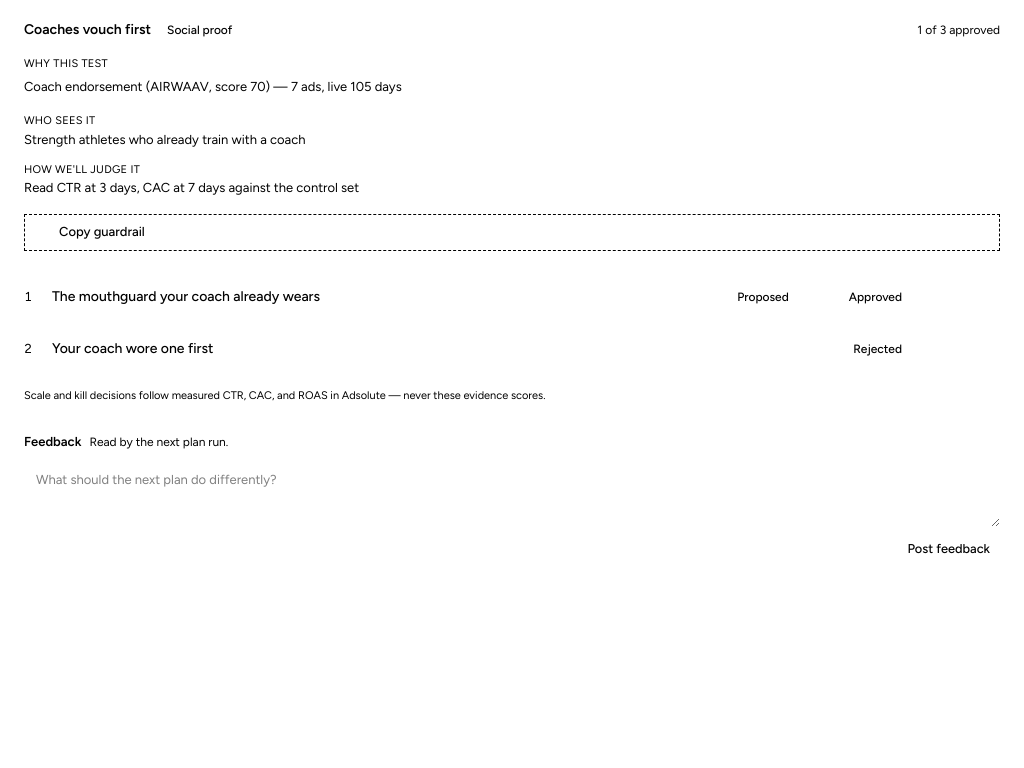
Test: TestPlanConcept › collapses the guardrail behind its toggle, closed to start
Expected: the text "Copy guardrail" is shown, [59,224,145,240]
Expected: the text "Never promise a performance gain in numbers" is not shown
Click the button "Copy guardrail". click: (102, 232)
box: [25,216,999,250]
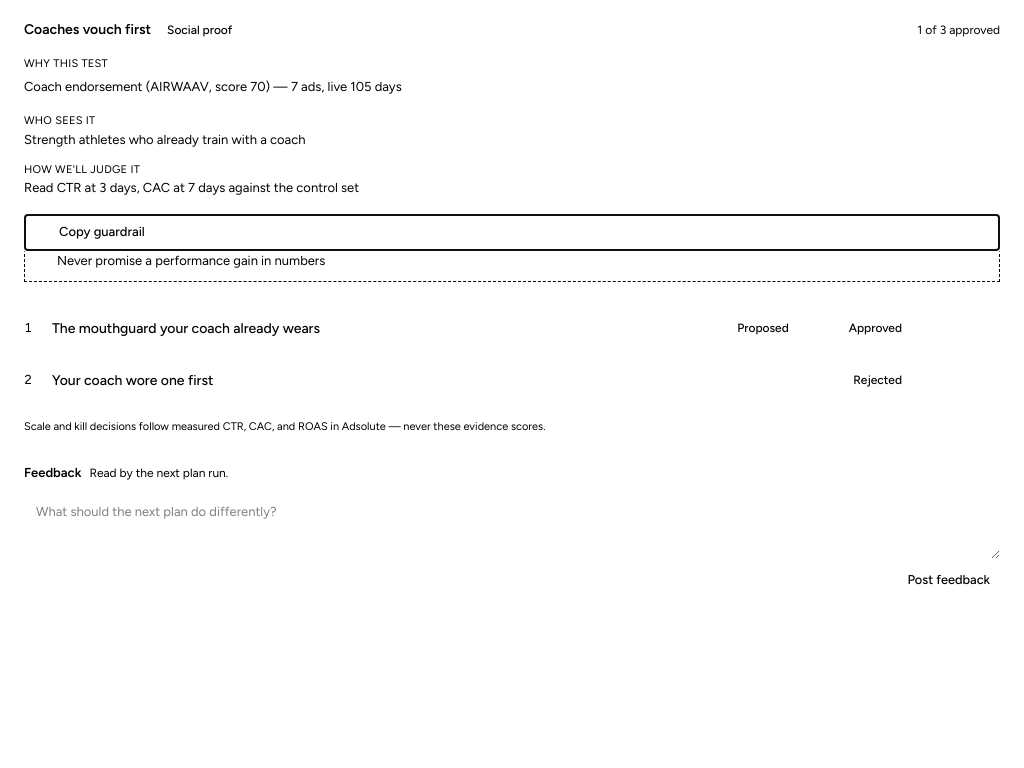
Expected: the text "Never promise a performance gain in numbers" is shown, [57,253,325,268]
